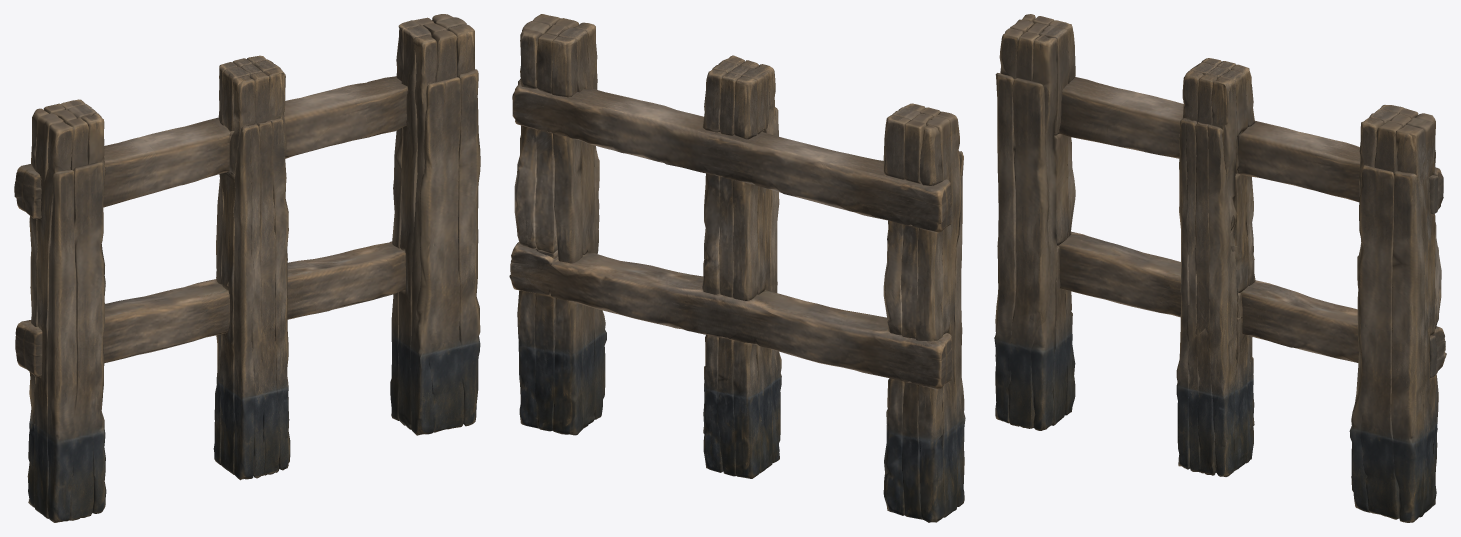
The model's file is balkenzaun_original.glb.
The picture shows the model from 3 angles, left to right: view 1: azimuth 30°, elevation 25°; view 2: azimuth 150°, elevation 25°; view 3: azimuth 330°, elevation 25°; orthographic projection.
Bounding box in the file's own units: 0.9556 × 0.8315 × 0.1353.
Materials: 1 (1 with a texture image).
